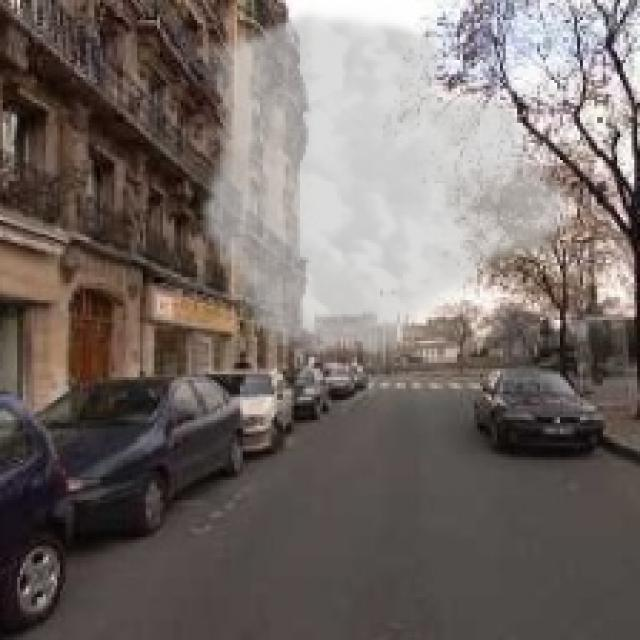Smoke: (195, 6, 580, 368)
